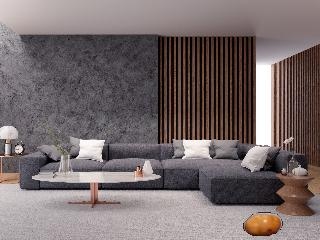potato: (243, 212, 283, 238)
